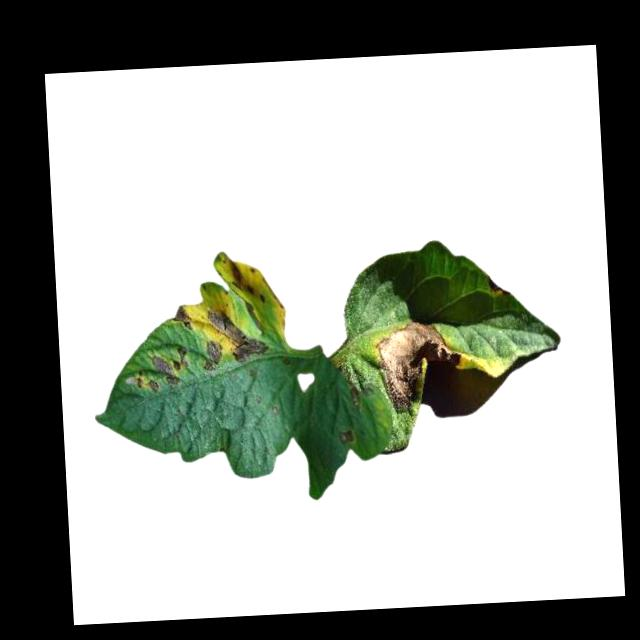Early_blight: (374, 319, 465, 413), (207, 307, 269, 364), (131, 344, 189, 394), (226, 257, 267, 306), (199, 335, 223, 372), (171, 304, 193, 329), (336, 428, 357, 443)
